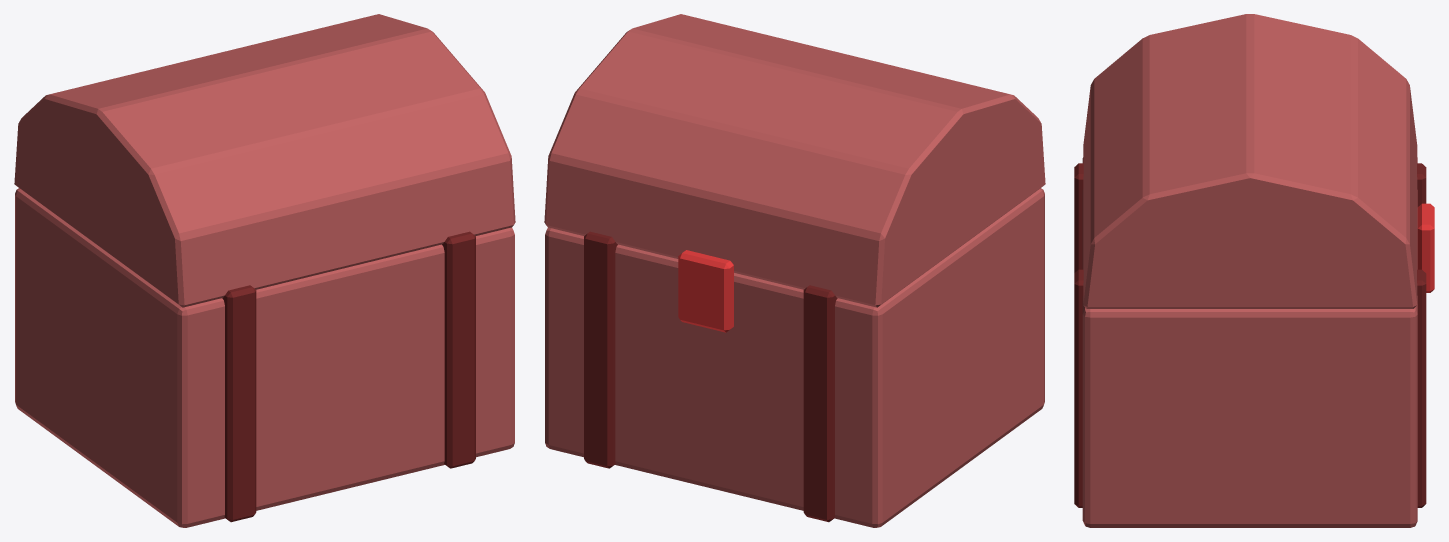
File: crimson_chest_v0.glb
3 renders of one model, left to right at view 1: azimuth 30°, elevation 25°; view 2: azimuth 150°, elevation 25°; view 3: azimuth 270°, elevation 25°, orthographic.
Visible parts, largest first — view 1: crimson_chest_v0, lid; view 2: crimson_chest_v0, lid; view 3: lid, crimson_chest_v0.
Part boxes in pixels (<box>): crimson_chest_v0: <box>15,188,514,527</box>; lid: <box>14,14,515,307</box>; crimson_chest_v0: <box>545,188,1044,527</box>; lid: <box>544,14,1045,307</box>; lid: <box>1083,14,1417,308</box>; crimson_chest_v0: <box>1074,157,1434,527</box>.
Bounding box in the file's own units: 0.92 × 0.9377 × 0.86.
